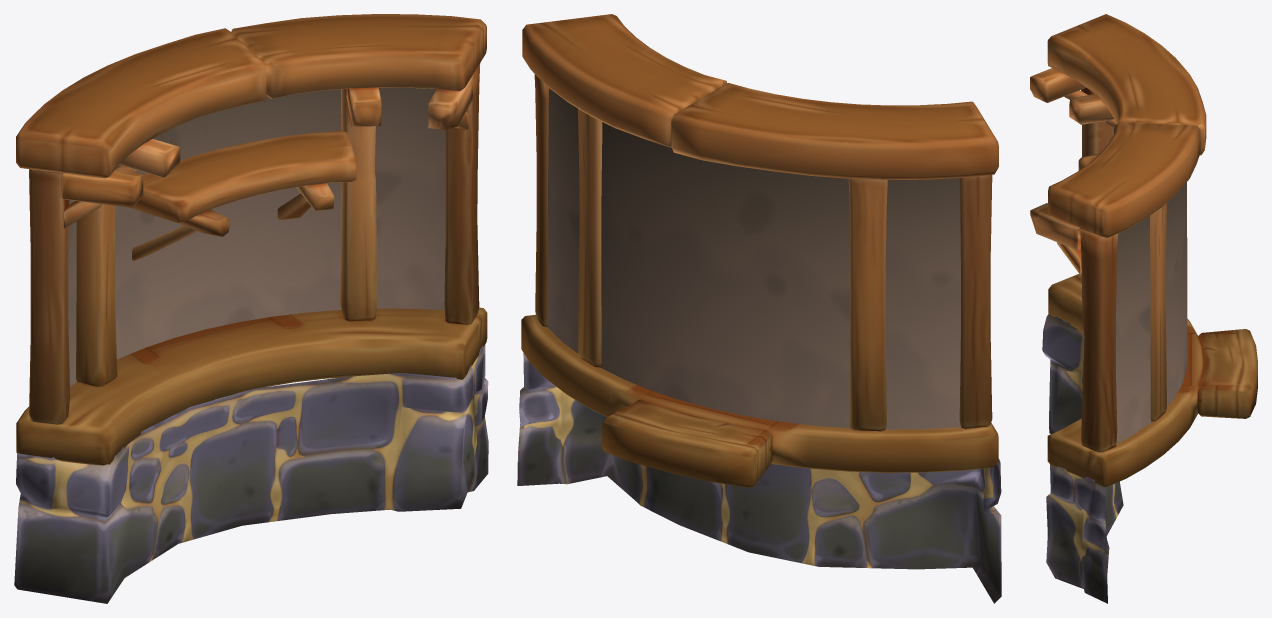
The model's file is Wall_LongB.fbx.
3 renders of one model, left to right at view 1: azimuth 30°, elevation 25°; view 2: azimuth 150°, elevation 25°; view 3: azimuth 270°, elevation 25°, orthographic. The views are drawn at different scales.
Parts seen in each view (by area): view 1: Wood, U_Wall_LongB, Wall, Shelf; view 2: Wood, Wall, U_Wall_LongB; view 3: Wood, Wall, U_Wall_LongB.
Part boxes in pixels (box(x1,y1,x2,y2)): Wood: box(16, 14, 487, 465); U_Wall_LongB: box(14, 345, 488, 603); Wall: box(36, 87, 445, 386); Shelf: box(132, 130, 356, 260); Wood: box(521, 14, 998, 487); Wall: box(547, 88, 960, 429); U_Wall_LongB: box(517, 353, 1001, 603); Wood: box(1030, 14, 1257, 487); Wall: box(1114, 128, 1187, 444); U_Wall_LongB: box(1042, 314, 1123, 603).
Bounding box in the file's own units: 455 × 421 × 220.
Materials: 3 (3 with a texture image).
